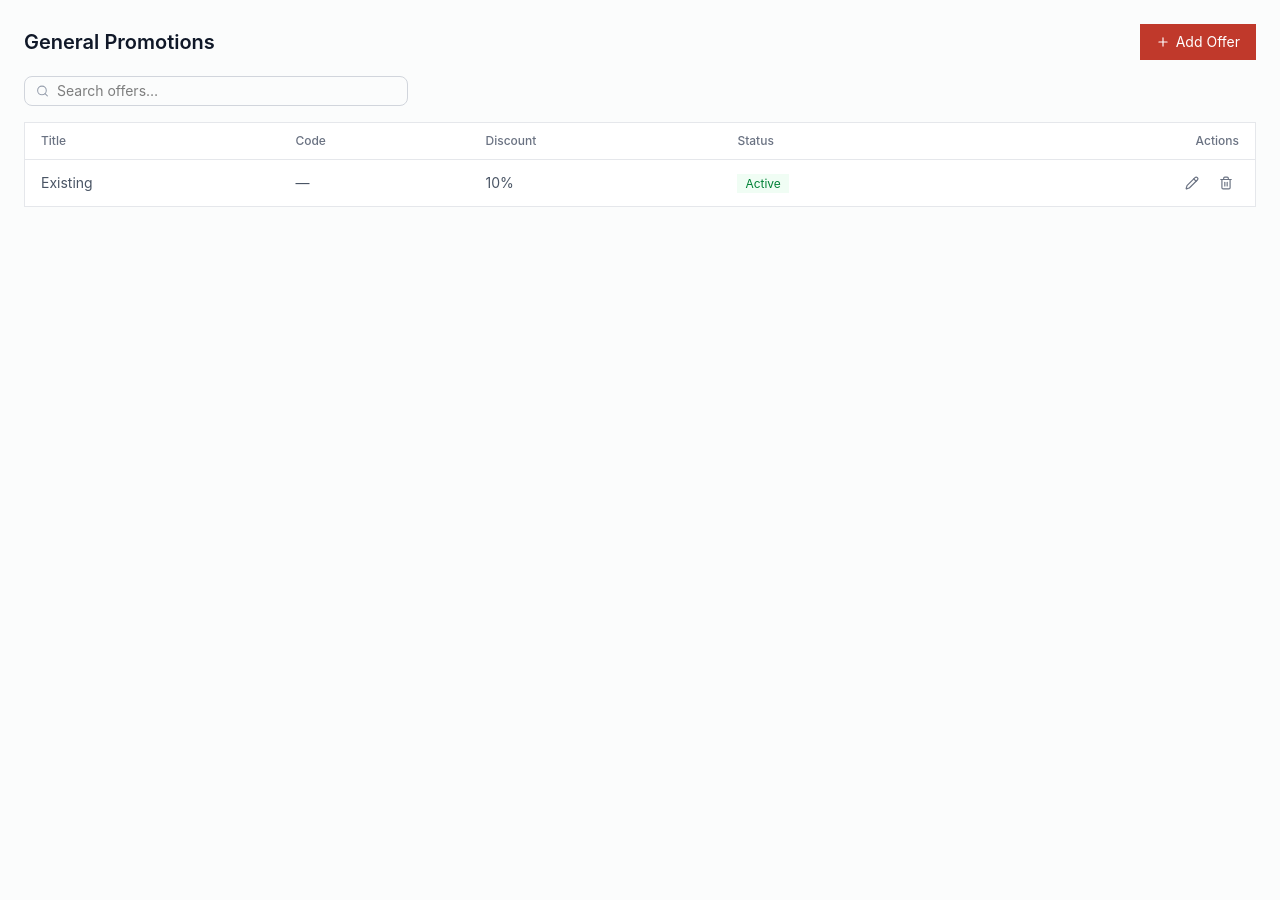
Test case: Admin General Promotions — save › pre-selects already-attached products when editing
Step 1. Click the 2nd button → (1192, 183), box [1179,170,1205,196]
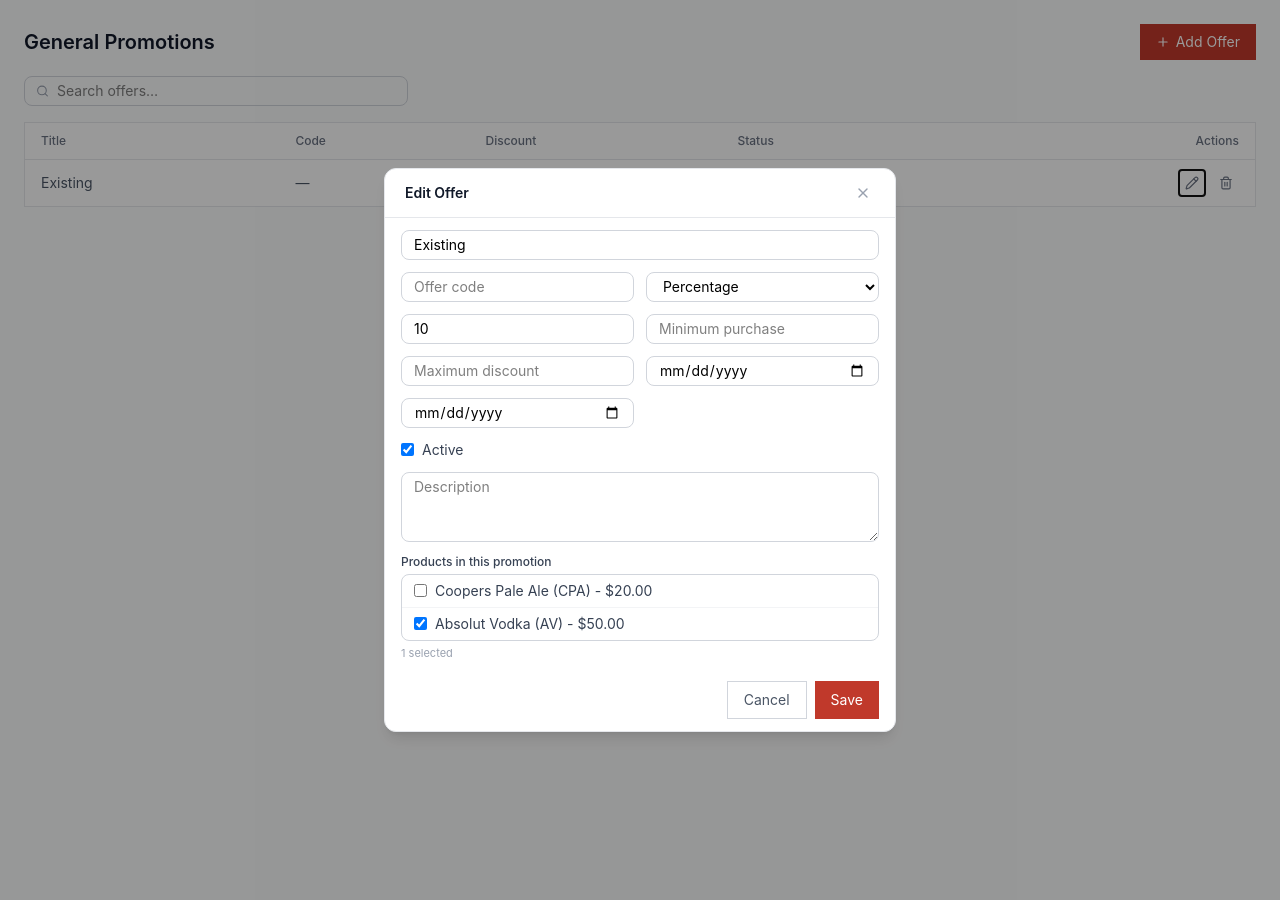
Result: the checkbox labelled "Absolut Vodka (AV) - $50.00" is checked at [414,617,427,630]
Result: the checkbox labelled "Coopers Pale Ale (CPA) - $20.00" is not checked at [414,584,427,597]
